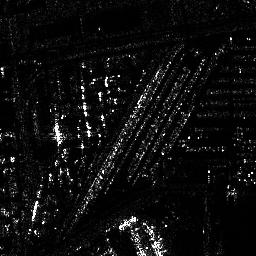ship: (141, 222, 167, 256), (128, 229, 148, 256), (118, 214, 139, 231)
